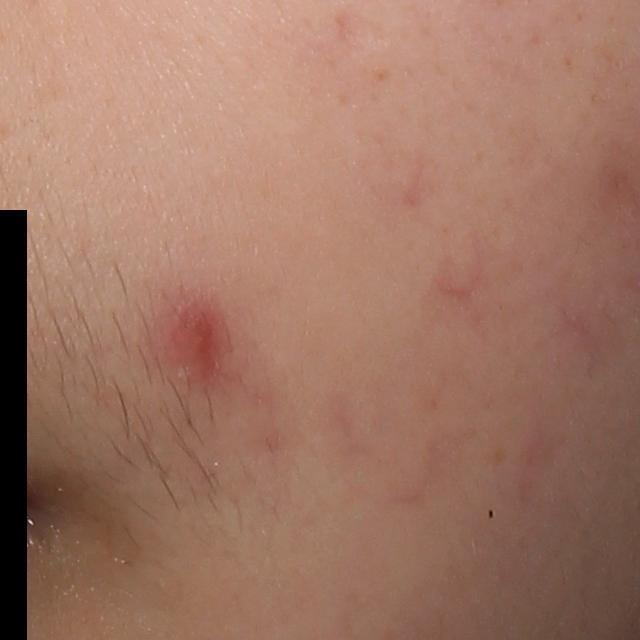atrophic_scar: (335, 7, 385, 63)
papule: (171, 303, 217, 360)
